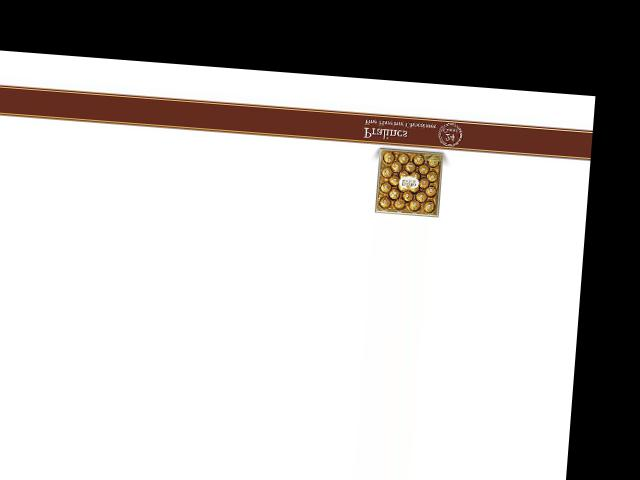chocolate: (371, 144, 448, 222)
